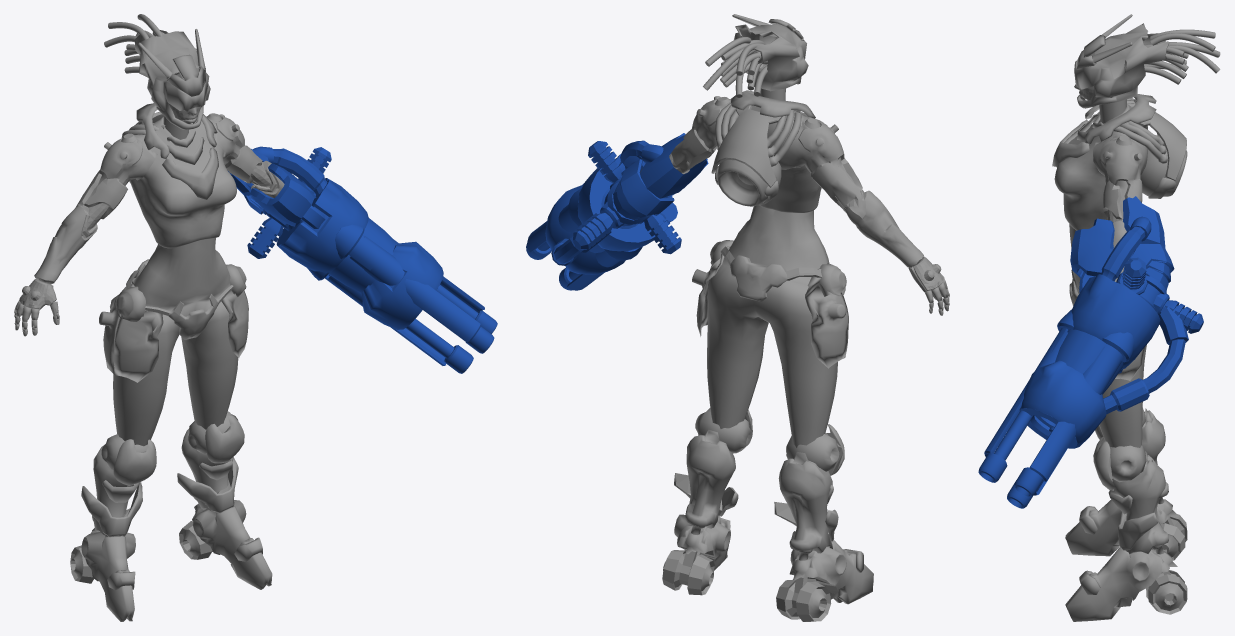
File: PG_ALFA_CON ARMI.FBX
3 views of the same model, side by side, from view 1: azimuth 30°, elevation 25°; view 2: azimuth 150°, elevation 25°; view 3: azimuth 270°, elevation 25° (orthographic). The views are drawn at different scales.
Visible parts, largest first — view 1: BODY, ARC_LIGHT, GUN, SHOTGUN; view 2: BODY, SHOTGUN, GUN, ARC_LIGHT; view 3: BODY, ARC_LIGHT, SHOTGUN, GUN.
Part boxes in pixels (x1,y1,x2,y2): BODY: (14, 14, 284, 621); ARC_LIGHT: (228, 147, 484, 365); GUN: (231, 161, 443, 329); SHOTGUN: (244, 146, 497, 373); BODY: (640, 14, 949, 621); SHOTGUN: (526, 133, 705, 290); GUN: (545, 149, 707, 274); ARC_LIGHT: (527, 133, 708, 290); BODY: (1052, 14, 1220, 621); ARC_LIGHT: (984, 198, 1200, 495); SHOTGUN: (978, 196, 1203, 508); GUN: (1019, 225, 1188, 448).
Size of the model in its own units: 1.55 by 1.85 by 0.728.
